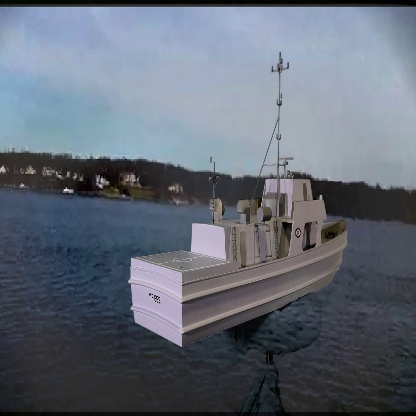YP689: (123, 51, 360, 347)
